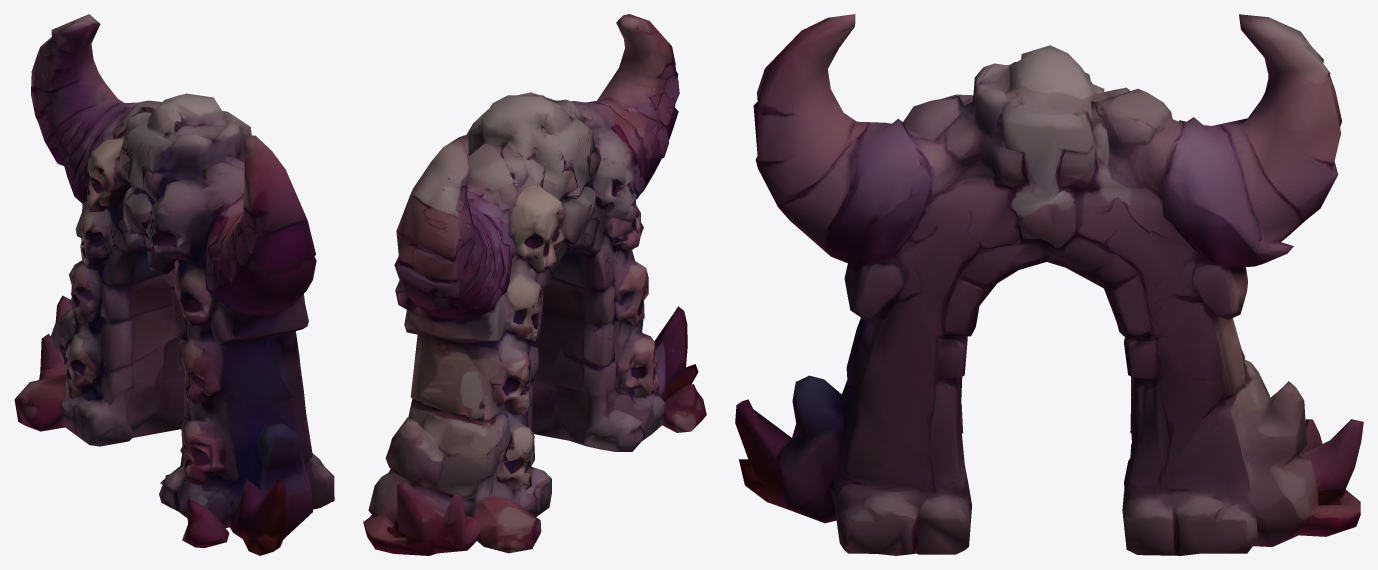
The model's file is hell-gate.glb.
3 views of the same model, side by side, from view 1: azimuth 30°, elevation 25°; view 2: azimuth 150°, elevation 25°; view 3: azimuth 270°, elevation 25° (orthographic). The views are drawn at different scales.
Parts seen in each view (by area): view 1: tripo_node_120786ea-299b-4eb9-bb1a-caed1243bd4d; view 2: tripo_node_120786ea-299b-4eb9-bb1a-caed1243bd4d; view 3: tripo_node_120786ea-299b-4eb9-bb1a-caed1243bd4d.
Part boxes in pixels (bbox=[...]): tripo_node_120786ea-299b-4eb9-bb1a-caed1243bd4d: bbox=[14, 14, 334, 555]; tripo_node_120786ea-299b-4eb9-bb1a-caed1243bd4d: bbox=[363, 14, 706, 555]; tripo_node_120786ea-299b-4eb9-bb1a-caed1243bd4d: bbox=[735, 14, 1363, 555].
Bounding box in the file's own units: 0.3734 × 0.8612 × 0.999.
1 material, 1 textured.
